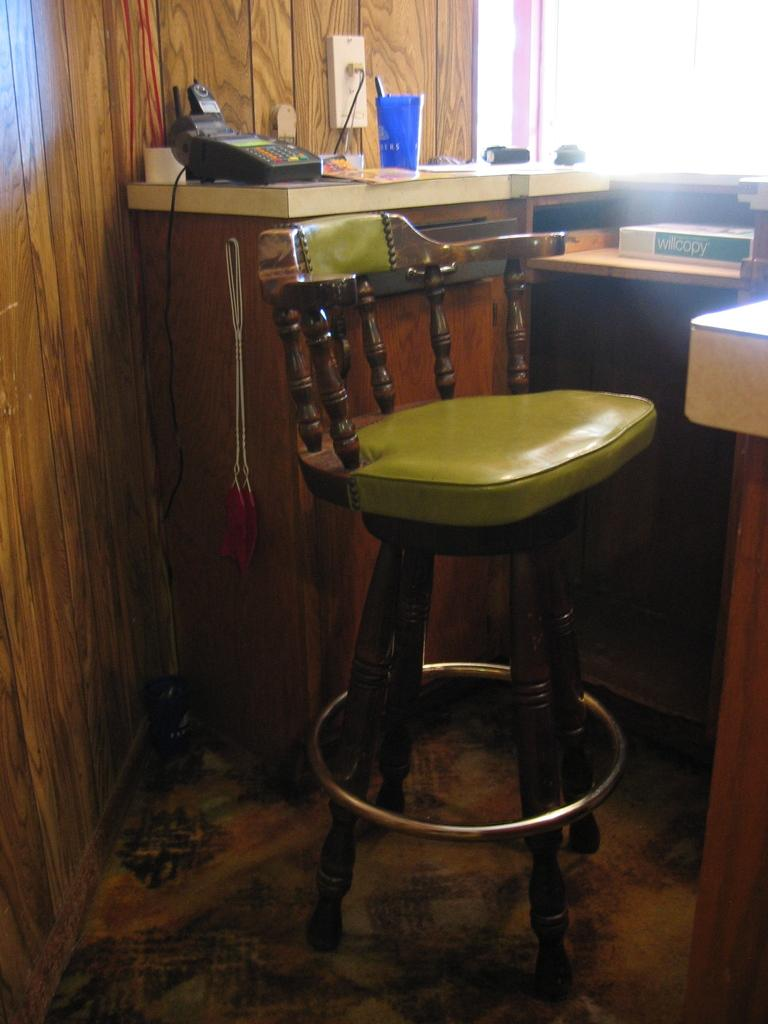Chair: (246, 134, 660, 962)
